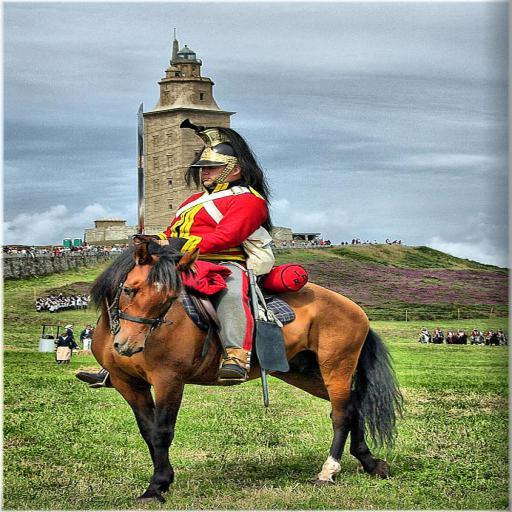Horse: (91, 241, 405, 509)
